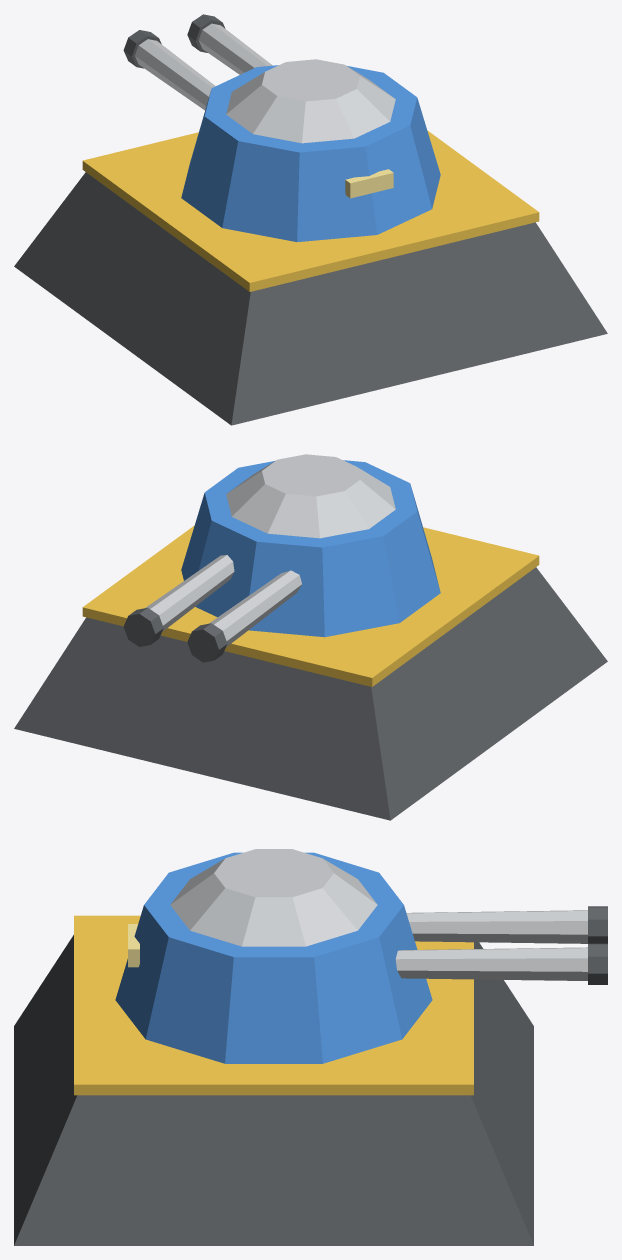
The model's file is Defense.fbx.
3 renders of one model, top to bottom at view 1: azimuth 30°, elevation 25°; view 2: azimuth 150°, elevation 25°; view 3: azimuth 270°, elevation 25°, orthographic. The views are drawn at different scales.
Visible parts, largest first — view 1: Dark.003, Team.003, Hazard.002, Metal.003, Light.003; view 2: Dark.003, Team.003, Hazard.002, Metal.003; view 3: Dark.003, Team.003, Hazard.002, Metal.003.
Boxes of the visible parts, x1,y1,x2,y2 form: Dark.003: (14, 14, 607, 425); Team.003: (181, 65, 440, 242); Hazard.002: (82, 130, 539, 291); Metal.003: (135, 23, 395, 143); Light.003: (345, 169, 393, 198); Dark.003: (14, 567, 607, 820); Team.003: (181, 460, 440, 637); Hazard.002: (82, 525, 539, 686); Metal.003: (145, 454, 395, 647); Dark.003: (14, 906, 607, 1245); Team.003: (115, 852, 432, 1063); Hazard.002: (74, 915, 473, 1095); Metal.003: (170, 849, 587, 980).
Size of the model in its own units: 260 by 145 by 297.
